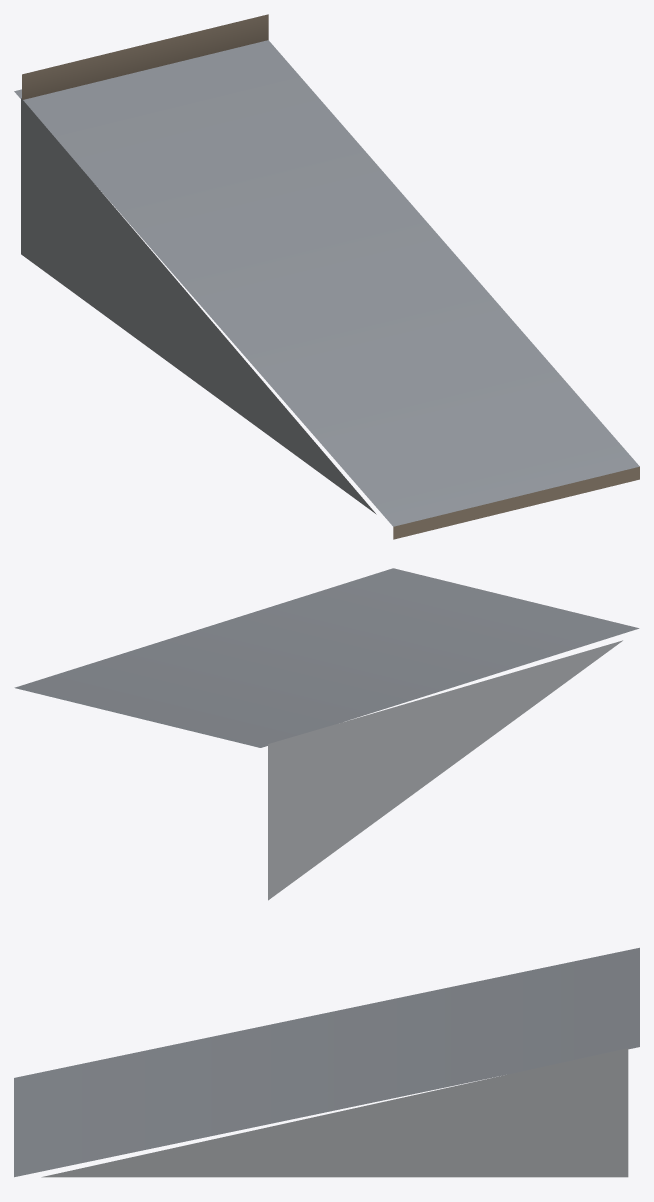
File: sg_roof_pent.glb
3 renders of one model, top to bottom at view 1: azimuth 30°, elevation 25°; view 2: azimuth 150°, elevation 25°; view 3: azimuth 270°, elevation 25°, orthographic. The views are drawn at different scales.
Parts seen in each view (by area): view 1: sg_roof_pent_SG_Slate, sg_roof_pent_SG_Stone, sg_roof_pent_SG_Joinery; view 2: sg_roof_pent_SG_Slate, sg_roof_pent_SG_Stone; view 3: sg_roof_pent_SG_Slate, sg_roof_pent_SG_Stone.
Part boxes in pixels (x1,y1,x2,y2): sg_roof_pent_SG_Slate: (14, 40, 639, 526); sg_roof_pent_SG_Stone: (21, 98, 376, 514); sg_roof_pent_SG_Joinery: (22, 14, 639, 539); sg_roof_pent_SG_Slate: (14, 568, 639, 747); sg_roof_pent_SG_Stone: (268, 640, 622, 900); sg_roof_pent_SG_Slate: (14, 947, 639, 1177); sg_roof_pent_SG_Stone: (41, 1048, 628, 1177).
Size of the model in its own units: 4 by 3 by 10.65.
